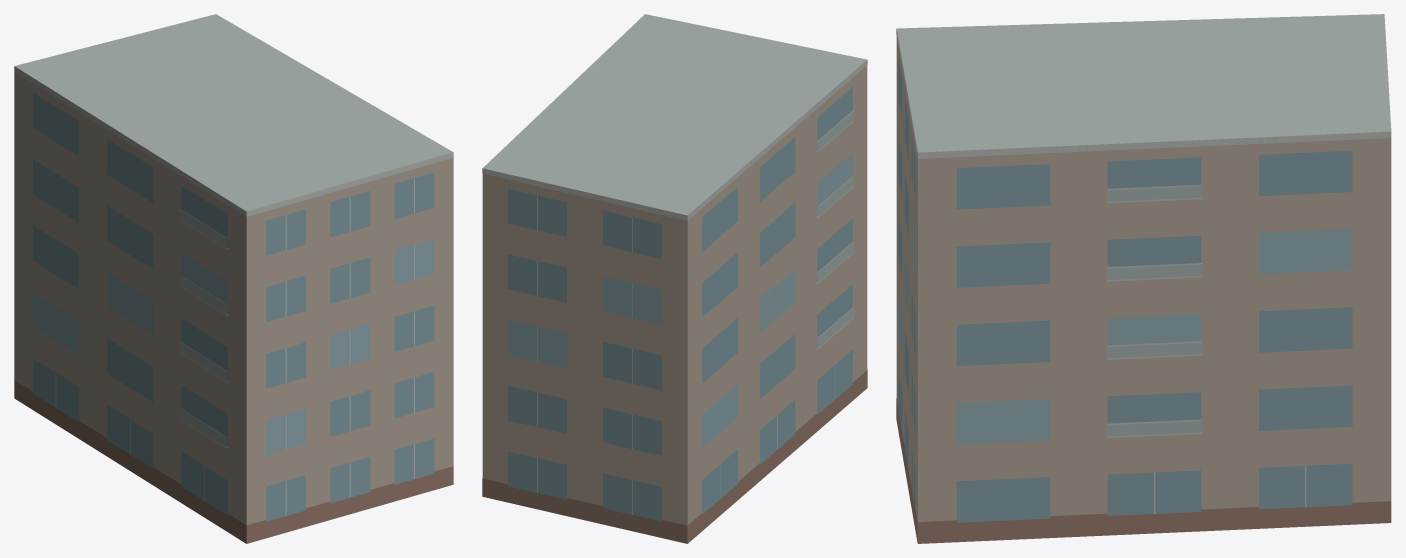
The model's file is survey-upis-32628079.glb.
3 renders of one model, left to right at view 1: azimuth 30°, elevation 25°; view 2: azimuth 150°, elevation 25°; view 3: azimuth 270°, elevation 25°, orthographic. The views are drawn at different scales.
Visible parts, largest first — view 1: survey-upis-32628079.tmp; view 2: survey-upis-32628079.tmp; view 3: survey-upis-32628079.tmp.
Boxes of the visible parts, x1,y1,x2,y2 form: survey-upis-32628079.tmp: (14, 14, 453, 543); survey-upis-32628079.tmp: (482, 14, 867, 543); survey-upis-32628079.tmp: (896, 14, 1391, 543).
Size of the model in its own units: 11.36 by 14.95 by 17.14.
